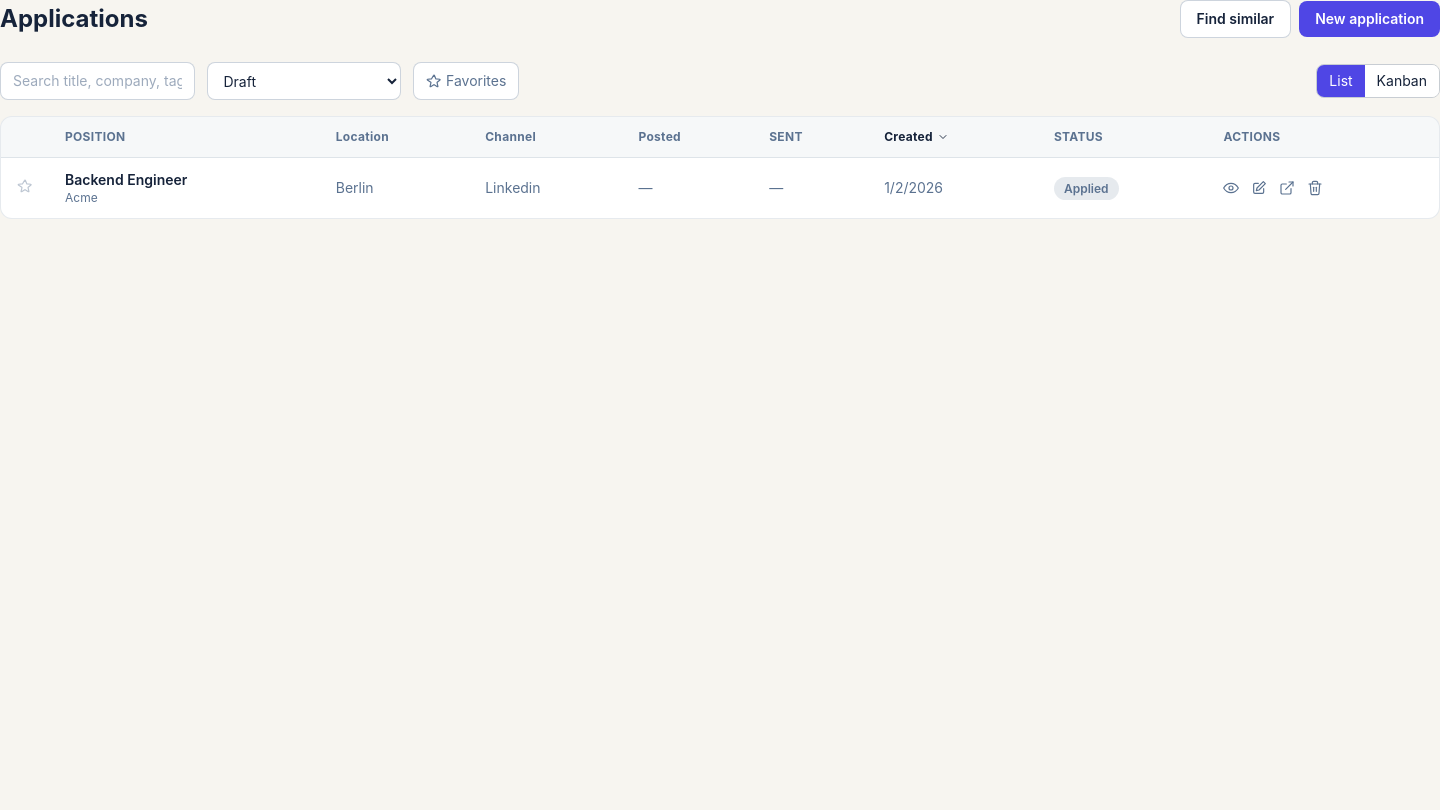
Test case: ApplicationsListPage › opens the duplicates review modal when "Find similar" is clicked (happy path)
The image size is (1440, 810).
Click the button "Find similar" at (1235, 19), box x1=1180 y1=0 x2=1291 y2=38
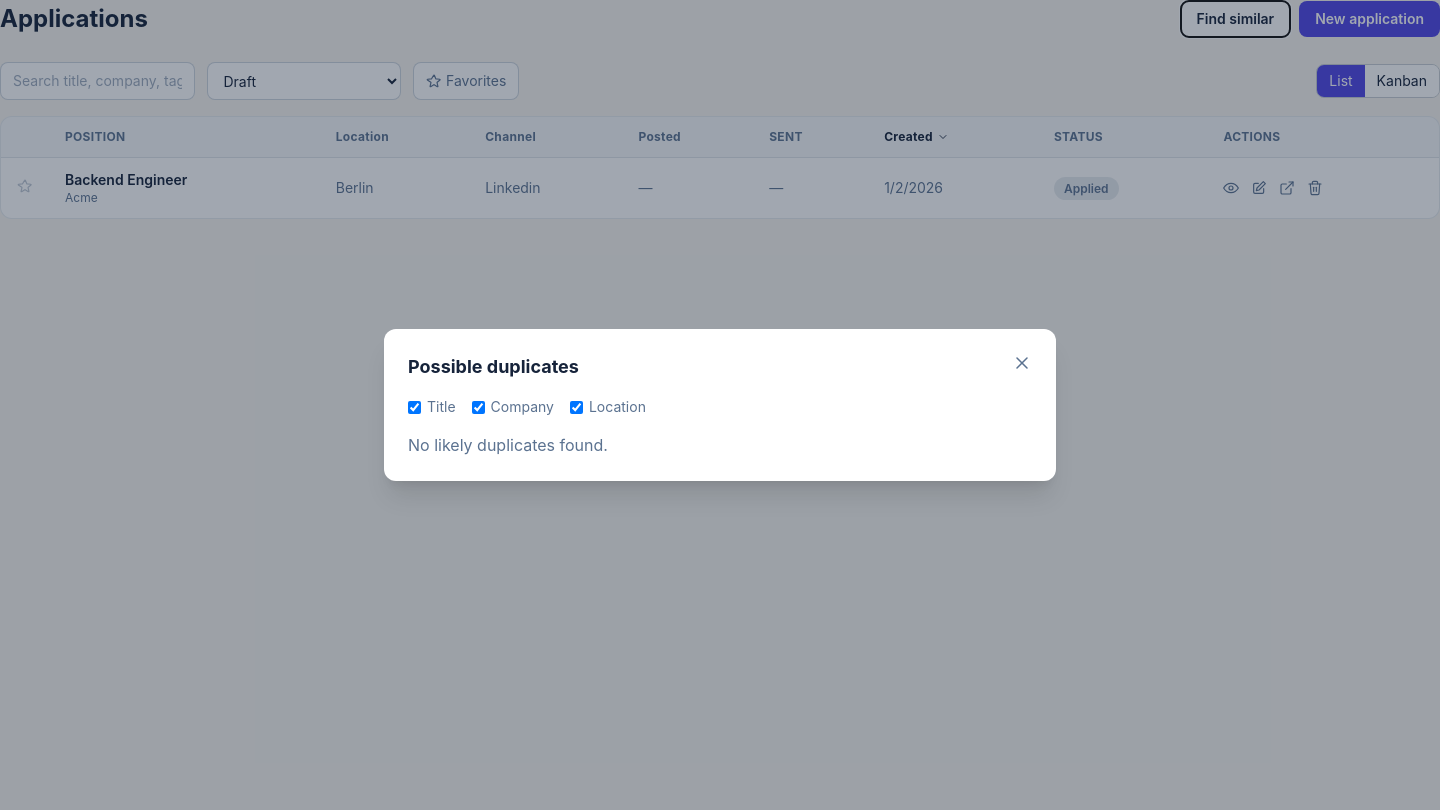
Result: the heading "Possible duplicates" is shown at x1=408 y1=353 x2=579 y2=381
